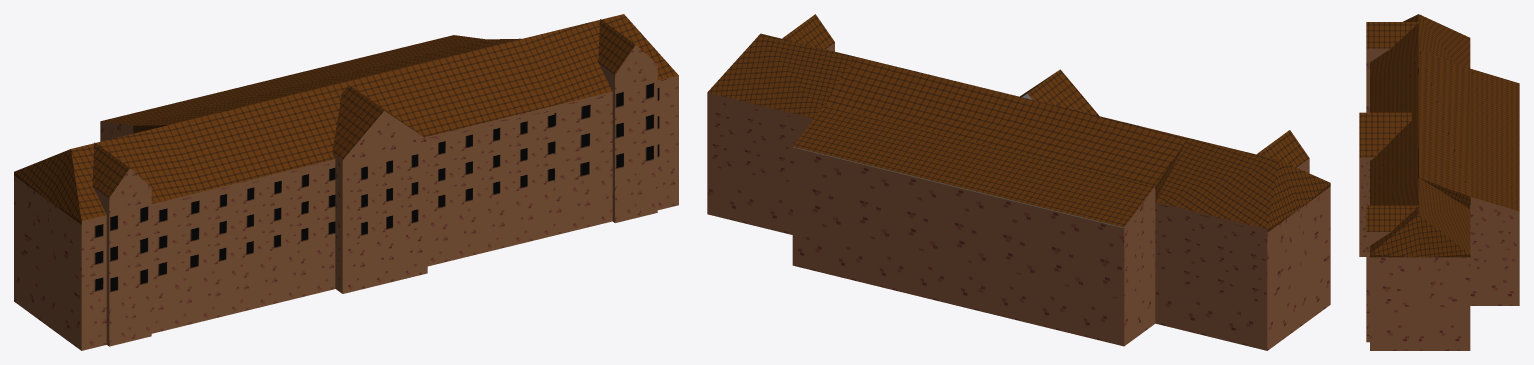
Rendered from brock.obj.
3 views of the same model, side by side, from view 1: azimuth 30°, elevation 25°; view 2: azimuth 150°, elevation 25°; view 3: azimuth 270°, elevation 25° (orthographic). The views are drawn at different scales.
Visible parts, largest first — view 1: Cube, Cube.001, Cube.003_Cube.002, Cube.002; view 2: Cube, Cube.001, Cube.002, Cube.003_Cube.002; view 3: Cube, Cube.001, Cube.003_Cube.002, Cube.002.
Part boxes in pixels (<box>): Cube: <box>14,14,678,350</box>; Cube.001: <box>332,85,427,293</box>; Cube.003_Cube.002: <box>598,19,657,222</box>; Cube.002: <box>92,142,151,346</box>; Cube: <box>707,33,1330,350</box>; Cube.001: <box>1020,69,1099,115</box>; Cube.002: <box>1256,130,1309,173</box>; Cube.003_Cube.002: <box>782,14,834,51</box>; Cube: <box>1370,14,1519,350</box>; Cube.001: <box>1359,112,1411,256</box>; Cube.003_Cube.002: <box>1366,205,1418,342</box>; Cube.002: <box>1366,22,1418,112</box>.
Size of the model in its own units: 19.54 by 5.42 by 6.12.
